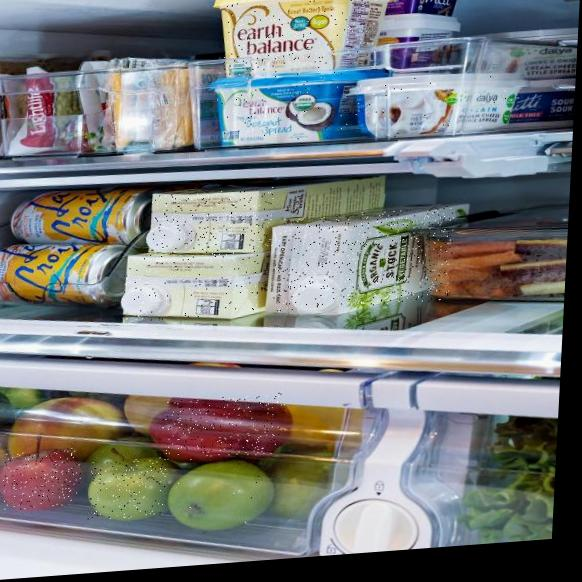apple: (172, 459, 273, 530), (88, 456, 170, 521), (1, 447, 83, 511), (0, 433, 0, 493)
cheese: (217, 0, 379, 76), (352, 70, 514, 141), (211, 68, 352, 148)
milk: (273, 205, 455, 313), (122, 247, 260, 323), (149, 187, 275, 255)
red bell pepper: (158, 392, 285, 463)
